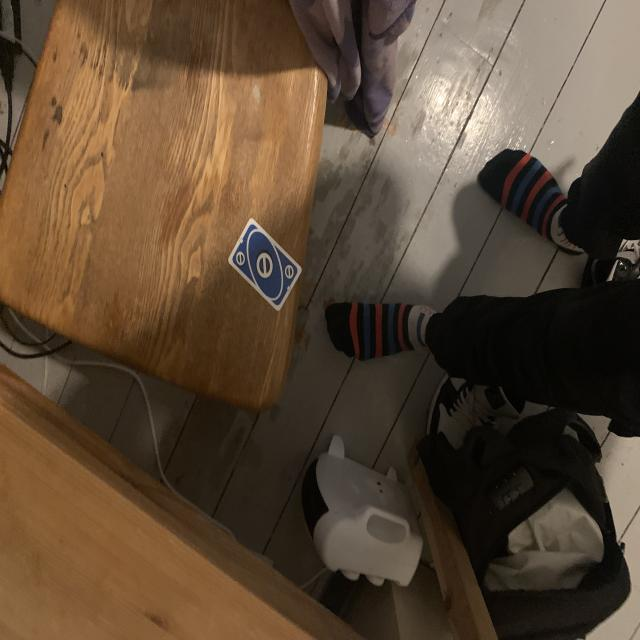lblueskip-20: (233, 248, 248, 270)
